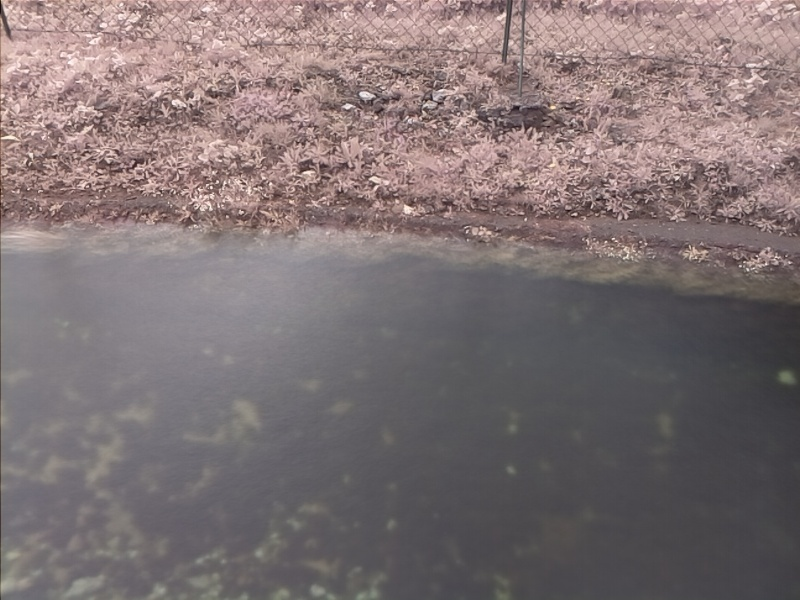Water: (1, 219, 798, 600)
